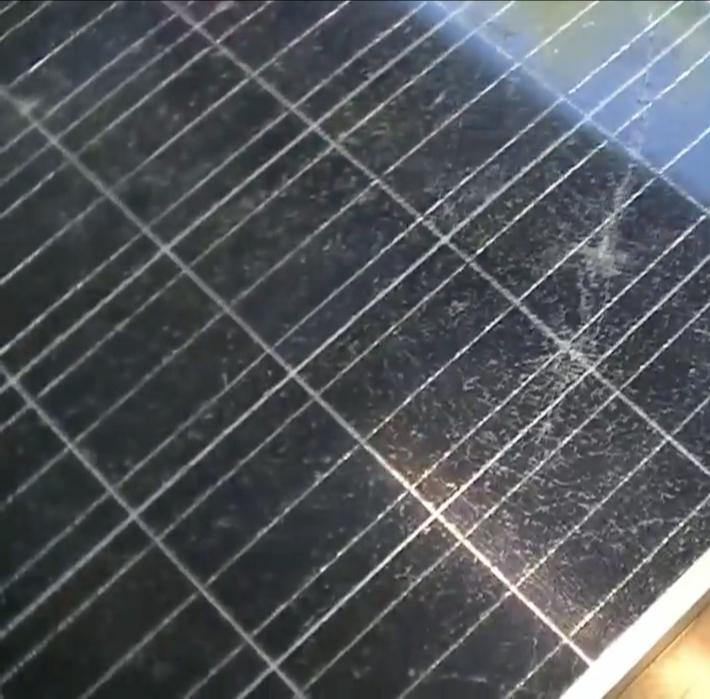Crack: (476, 137, 675, 410)
